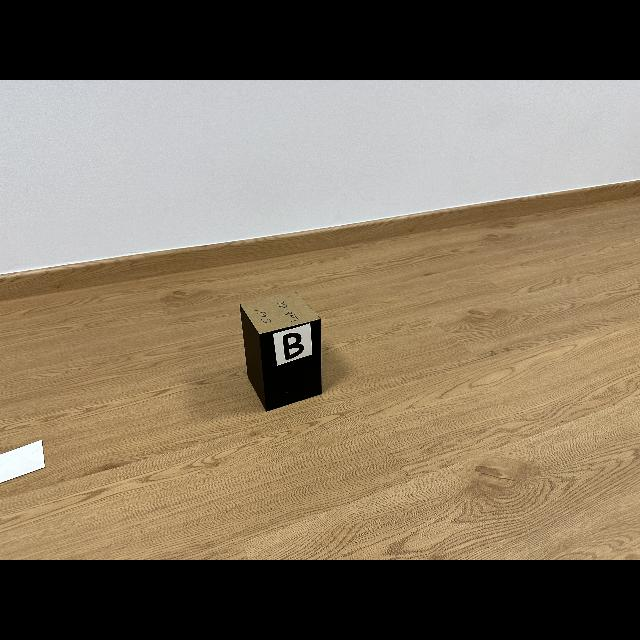B: (282, 332, 304, 360)
